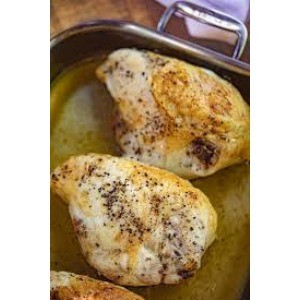chicken breast_brain food: (77, 190, 203, 257), (115, 88, 218, 154)
